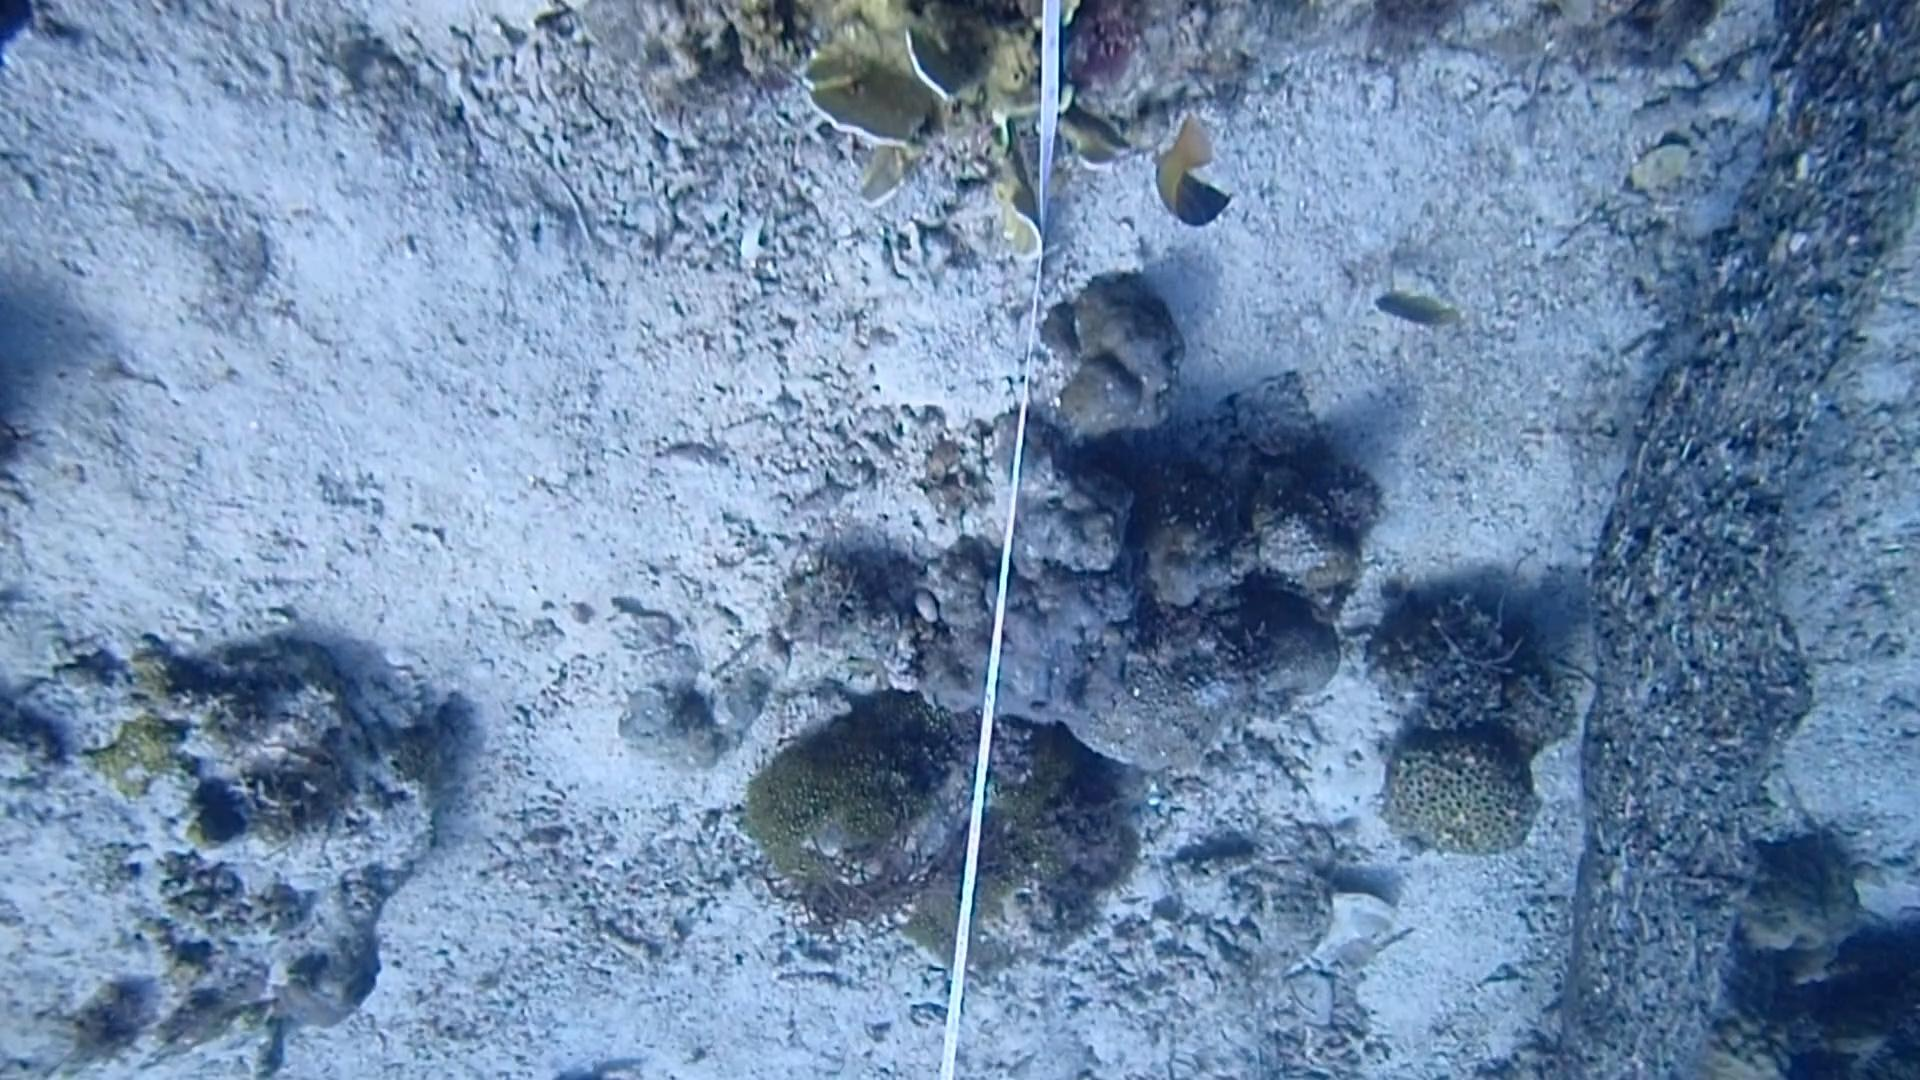Light Fish: (1364, 265, 1476, 345)
Yellow-Blue Fish: (1130, 105, 1259, 233)
